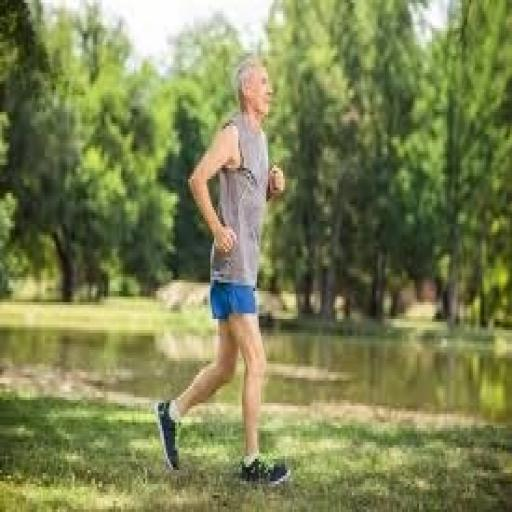running: (153, 53, 292, 490)
